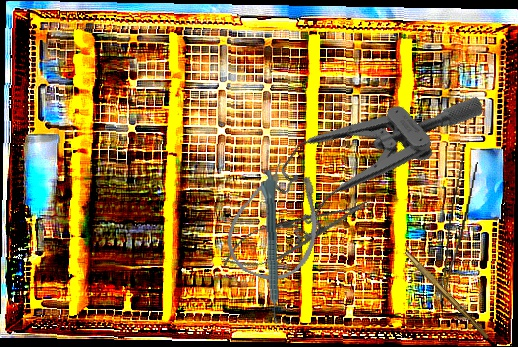Cannula: (217, 150, 339, 292)
Handpiece: (258, 168, 281, 325)
Needle Holder: (215, 185, 379, 281)
Scalpel Handle: (401, 250, 492, 340)
Speculum: (245, 33, 488, 263)
Tissue Forceps: (439, 159, 478, 306)
